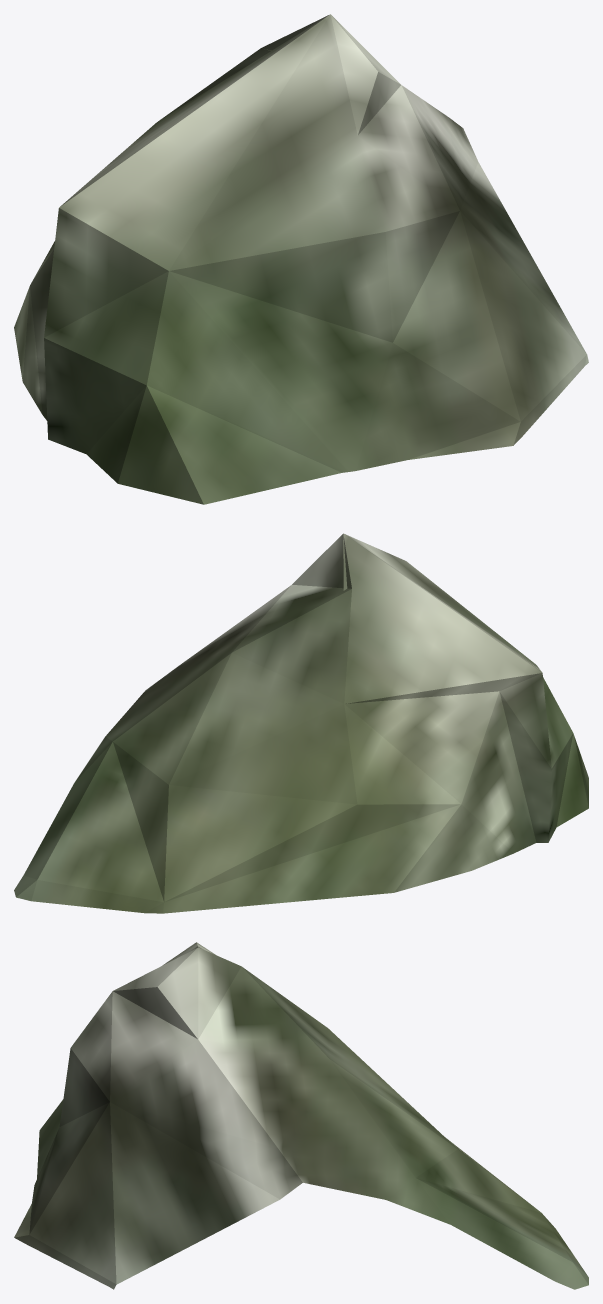
The picture shows the model from 3 angles, top to bottom: view 1: azimuth 30°, elevation 25°; view 2: azimuth 150°, elevation 25°; view 3: azimuth 270°, elevation 25°; orthographic projection. The views are drawn at different scales.
Size of the model in its own units: 0.7498 by 0.5229 by 1.02.
Materials: 1 (1 with a texture image).
